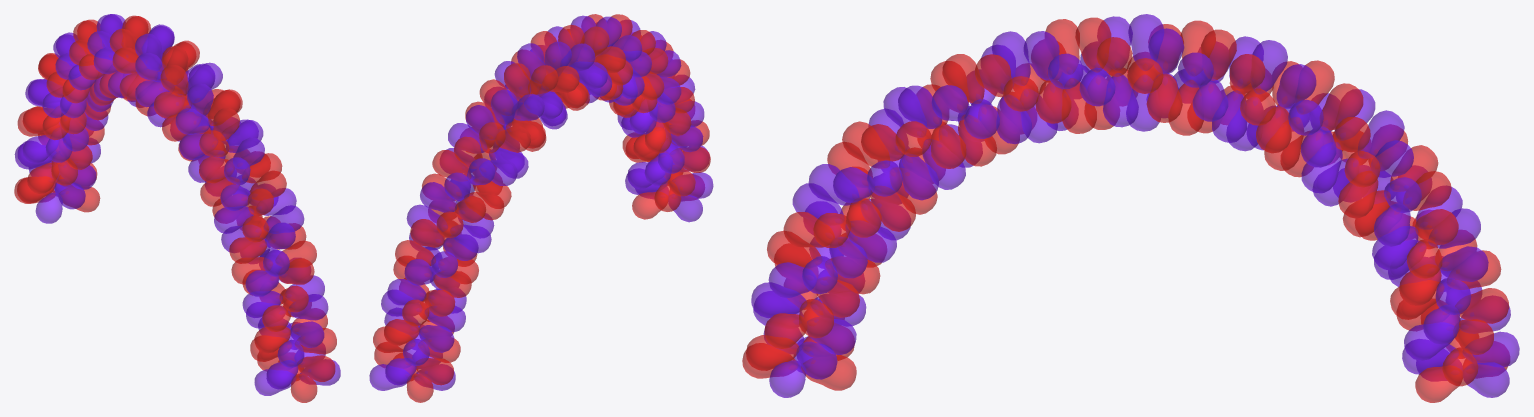
The model's file is balloon.arc1.1.glb.
3 views of the same model, side by side, from view 1: azimuth 30°, elevation 25°; view 2: azimuth 150°, elevation 25°; view 3: azimuth 270°, elevation 25° (orthographic). The views are drawn at different scales.
Parts seen in each view (by area): view 1: 13498_Balloon_Arch_v1_l2; view 2: 13498_Balloon_Arch_v1_l2; view 3: 13498_Balloon_Arch_v1_l2.
Part boxes in pixels (left/top/right/bottom): 13498_Balloon_Arch_v1_l2: left=14, top=14, right=340, bottom=402; 13498_Balloon_Arch_v1_l2: left=369, top=14, right=713, bottom=402; 13498_Balloon_Arch_v1_l2: left=742, top=14, right=1519, bottom=402.
Size of the model in its own units: 3.48 by 9.54 by 18.67.
